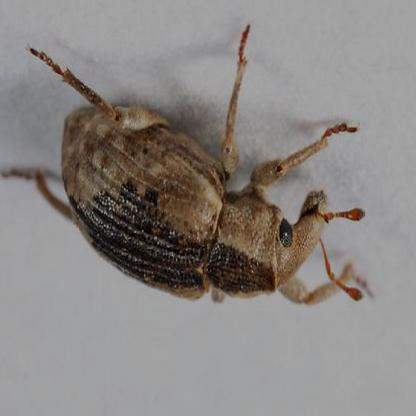rice-bug: (26, 32, 376, 308)
